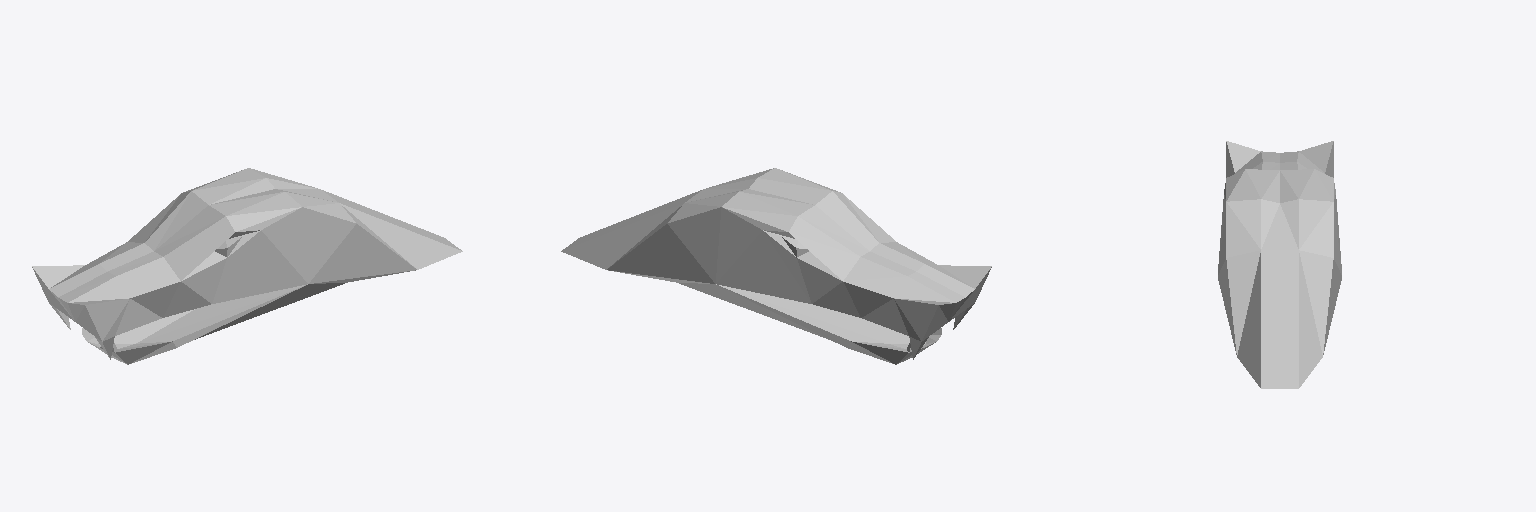
Rendered from croco.obj.
The picture shows the model from 3 angles: view 1: azimuth 30°, elevation 25°; view 2: azimuth 150°, elevation 25°; view 3: azimuth 270°, elevation 25°; orthographic projection.
Visible parts, largest first — view 1: Cube; view 2: Cube; view 3: Cube.
Boxes of the visible parts, x1=… form: Cube: x1=32, y1=168, x2=462, y2=364; Cube: x1=561, y1=168, x2=991, y2=364; Cube: x1=1218, y1=141, x2=1341, y2=388.
Bounding box in the file's own units: 9.22 × 2.96 × 2.52.